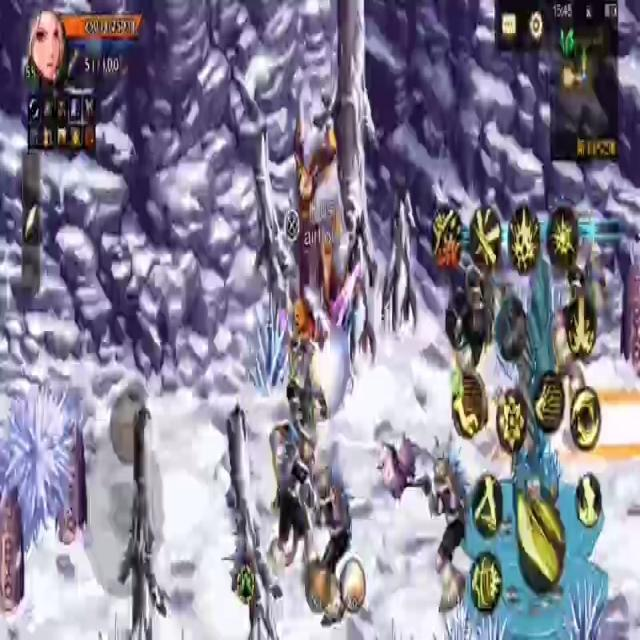player: (291, 286, 355, 425)
